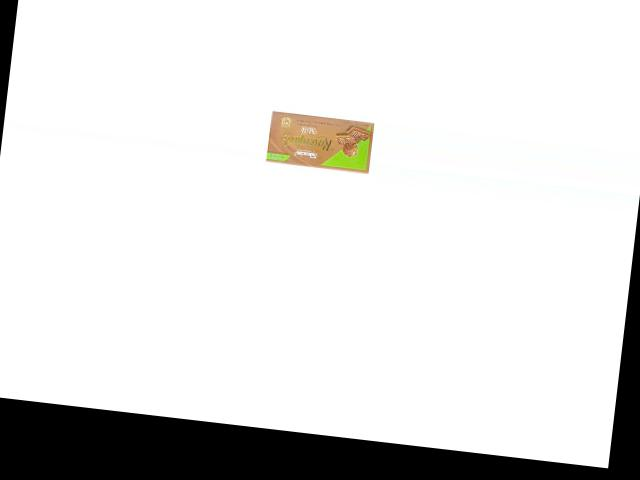chocolate: (262, 108, 375, 177)
